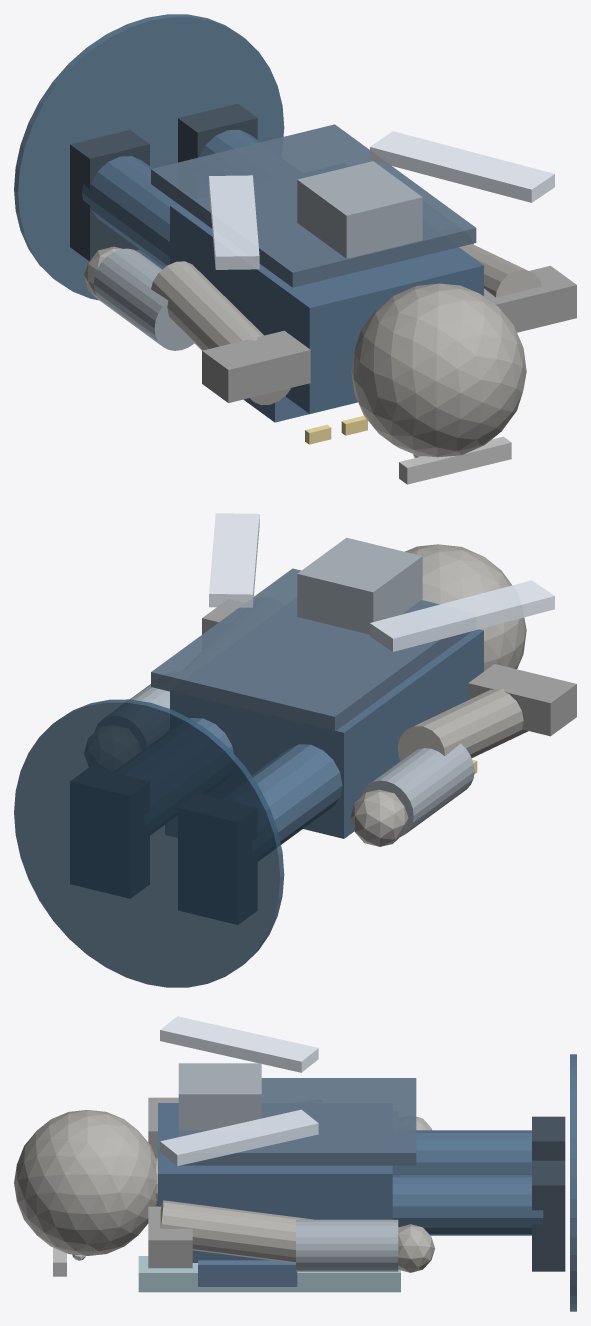
The model's file is SW_NPC_016_pell_aerieson.glb.
3 views of the same model, one above another, from view 1: azimuth 30°, elevation 25°; view 2: azimuth 150°, elevation 25°; view 3: azimuth 270°, elevation 25° (orthographic). The views are drawn at different scales.
Parts seen in each view (by area): view 1: round_base_plate, head, torso_uniform, storm_cloak, wingpack_core, right_wing_rig, left_leg, left_stone_pauldron, left_upper_arm, left_forearm_gauntlet, left_boot, left_wing_rig (+6 smaller); view 2: round_base_plate, storm_cloak, torso_uniform, wingpack_core, left_wing_rig, head, left_leg, left_upper_arm, left_forearm_gauntlet, right_wing_rig, left_stone_pauldron, left_hand; view 3: head, storm_cloak, torso_uniform, right_leg, right_upper_arm, left_leg, right_forearm_gauntlet, wingpack_core, rank_sash, left_wing_rig, right_wing_rig, right_boot (+6 smaller).
Part boxes in pixels (<box>): round_base_plate: <box>14,14,284,300</box>; head: <box>351,283,526,457</box>; torso_uniform: <box>170,203,483,413</box>; storm_cloak: <box>151,124,476,287</box>; wingpack_core: <box>297,161,422,258</box>; right_wing_rig: <box>370,131,554,202</box>; left_leg: <box>81,156,177,267</box>; left_stone_pauldron: <box>202,330,310,402</box>; left_upper_arm: <box>151,261,290,405</box>; left_forearm_gauntlet: <box>93,248,194,350</box>; left_boot: <box>70,130,149,260</box>; left_wing_rig: <box>209,175,259,269</box>; round_base_plate: <box>14,699,284,987</box>; storm_cloak: <box>151,568,471,731</box>; torso_uniform: <box>170,629,483,838</box>; wingpack_core: <box>297,537,422,634</box>; left_wing_rig: <box>370,580,554,651</box>; head: <box>405,544,526,671</box>; left_leg: <box>251,744,342,844</box>; left_upper_arm: <box>397,688,528,760</box>; left_forearm_gauntlet: <box>360,743,474,836</box>; right_wing_rig: <box>209,513,259,607</box>; left_stone_pauldron: <box>468,664,576,736</box>; left_hand: <box>350,789,408,846</box>; head: <box>14,1110,156,1255</box>; storm_cloak: <box>178,1078,416,1165</box>; torso_uniform: <box>158,1103,392,1262</box>; right_leg: <box>392,1174,543,1235</box>; right_upper_arm: <box>160,1200,313,1263</box>; left_leg: <box>392,1130,531,1174</box>; right_forearm_gauntlet: <box>296,1219,398,1271</box>; wingpack_core: <box>178,1063,261,1130</box>; rank_sash: <box>138,1256,400,1292</box>; left_wing_rig: <box>160,1016,318,1072</box>; right_wing_rig: <box>160,1109,318,1165</box>; right_boot: <box>532,1160,565,1271</box>.
Bounding box in the file's own units: 1.32 × 1.01 × 2.2.
